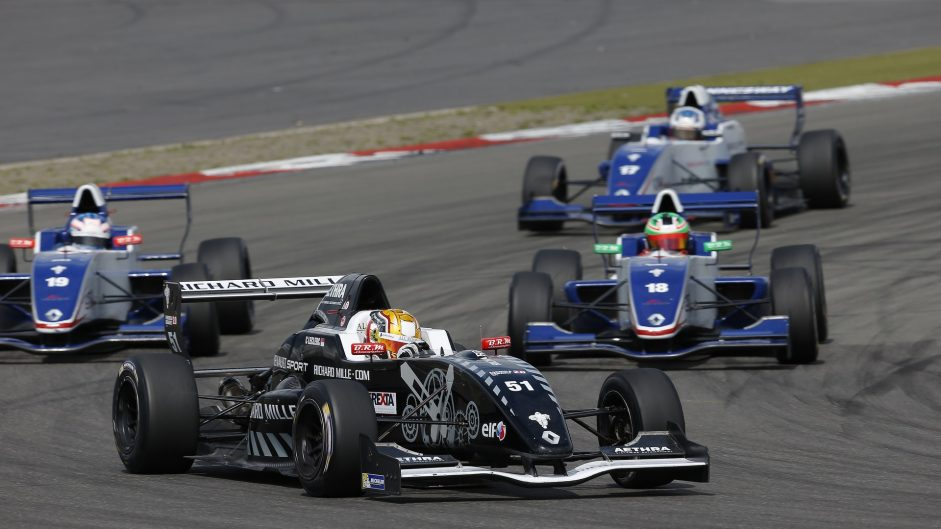race car: (109, 270, 713, 506), (501, 190, 831, 371), (513, 81, 857, 237), (1, 178, 260, 362)
